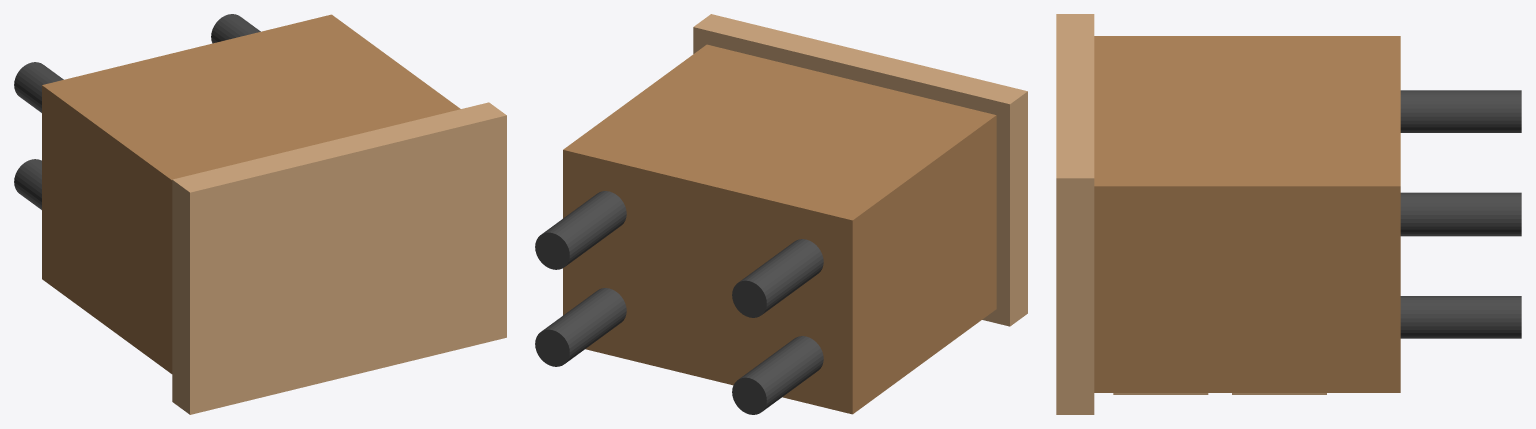
File: bedside-cupboards.glb
3 renders of one model, left to right at view 1: azimuth 30°, elevation 25°; view 2: azimuth 150°, elevation 25°; view 3: azimuth 270°, elevation 25°, orthographic. The views are drawn at different scales.
Parts seen in each view (by area): view 1: Top, Cabinet, world, Leg; view 2: Cabinet, Top, world, Leg; view 3: Cabinet, Top, world, Leg.
Boxes of the visible parts, bbox=[...] form: Top: bbox=[172, 102, 506, 414]; Cabinet: bbox=[42, 14, 460, 373]; world: bbox=[14, 62, 63, 209]; Leg: bbox=[211, 14, 260, 43]; Cabinet: bbox=[563, 44, 996, 414]; Top: bbox=[693, 14, 1027, 326]; world: bbox=[535, 239, 823, 414]; Leg: bbox=[535, 191, 626, 269]; Cabinet: bbox=[1094, 36, 1400, 392]; Top: bbox=[1056, 14, 1094, 414]; world: bbox=[1400, 90, 1521, 338]; Leg: bbox=[1400, 192, 1521, 235].
Size of the model in its own units: 0.82 by 0.55 by 0.98.
